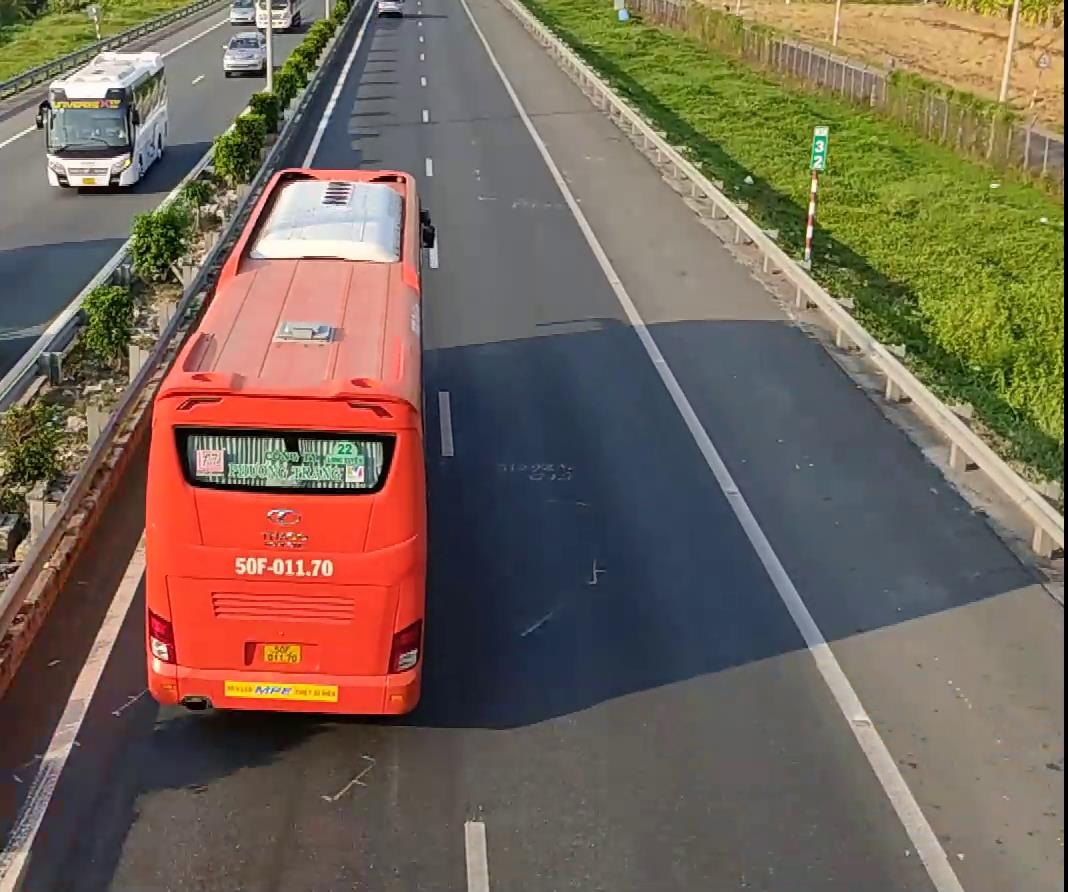bus: (140, 160, 430, 715), (41, 48, 168, 191)
